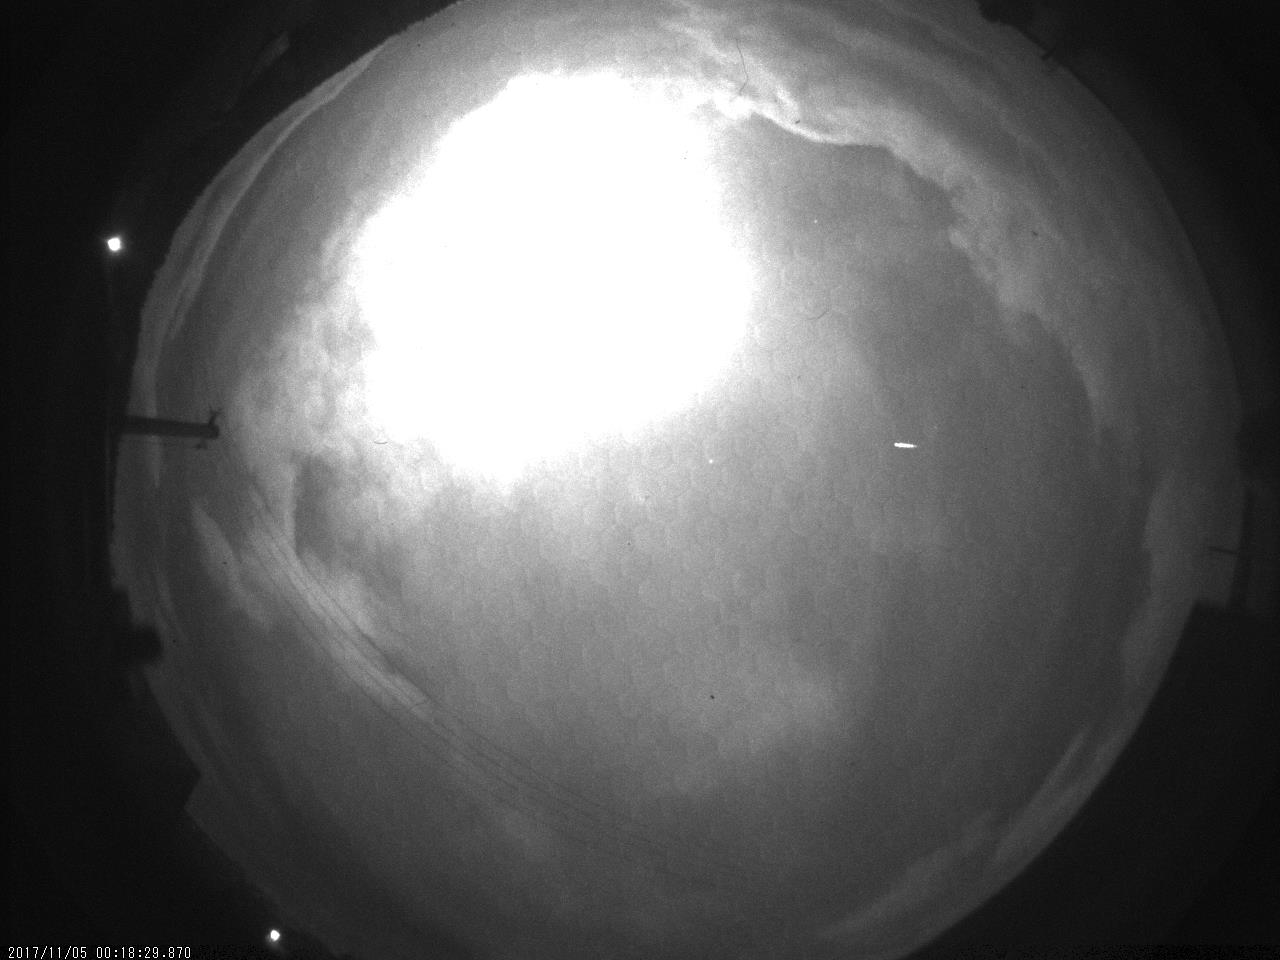meteor: (881, 430, 928, 459)
